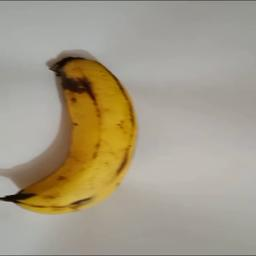Banana Semifresh: (0, 56, 142, 212)
